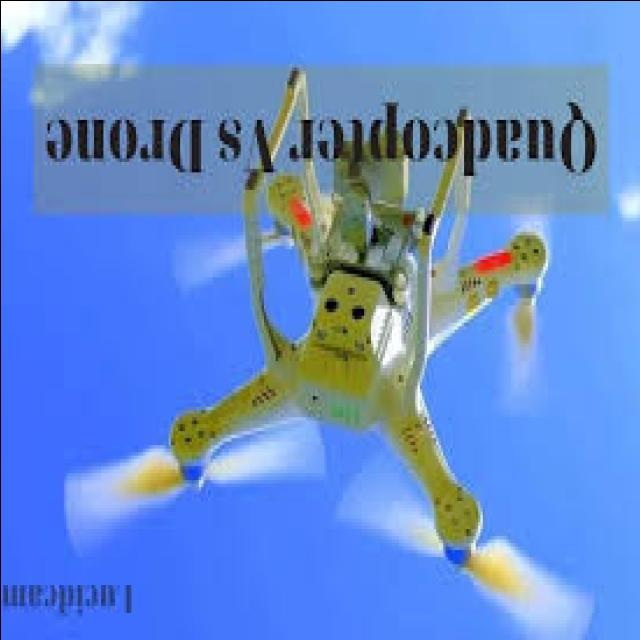drone: (63, 62, 600, 640)
